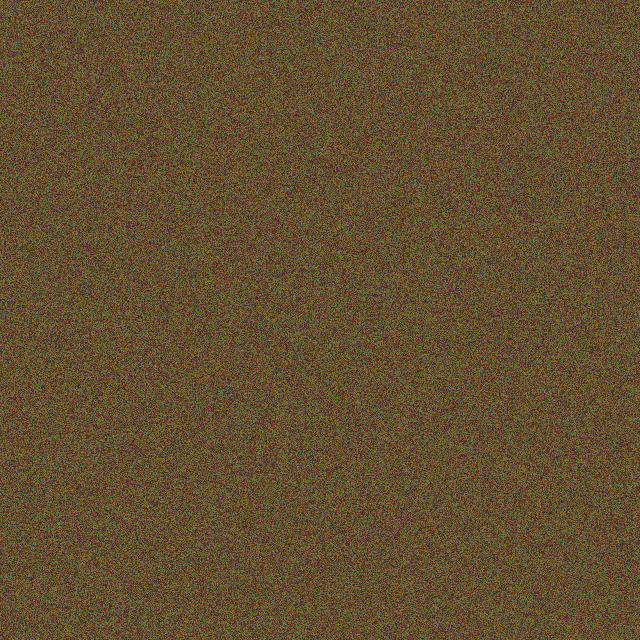metal_debris: (388, 454, 442, 565)
